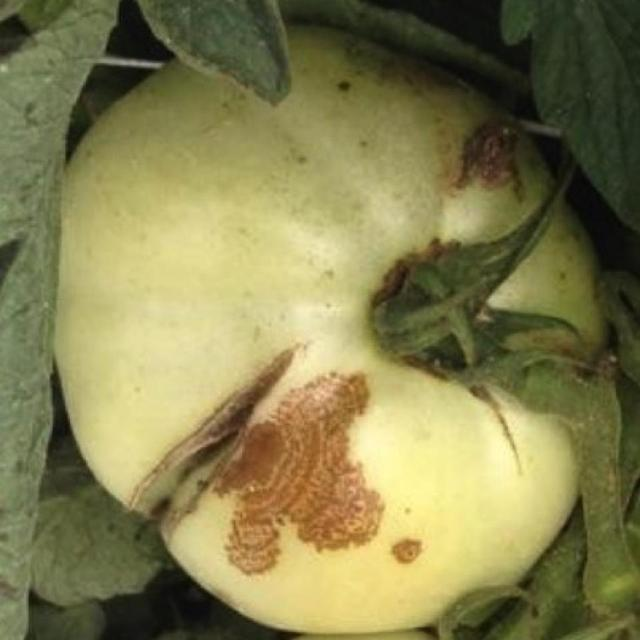Spotted wilt Virus Fruit: (31, 14, 410, 427)
